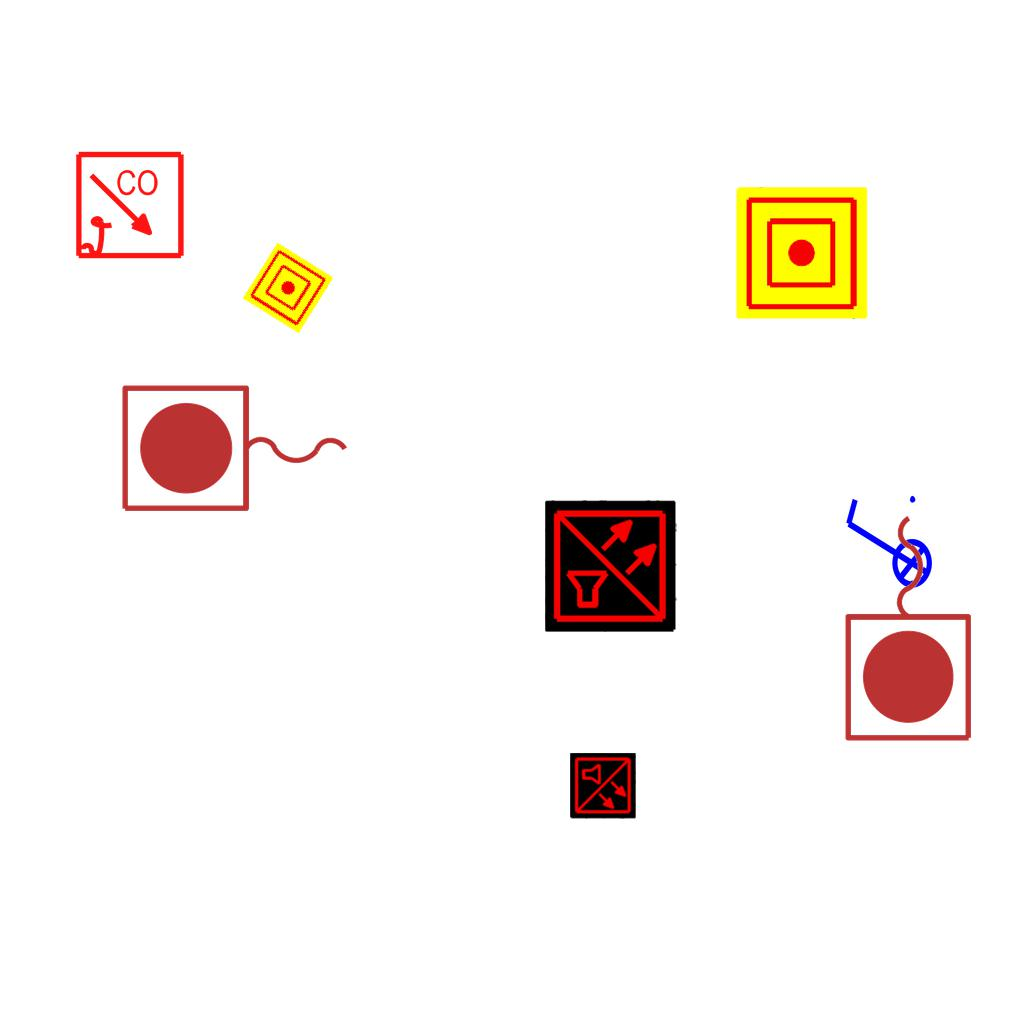Ausschalter_beleuchtet: (838, 490, 934, 602)
NAM-Nichtautomatischer_Melder: (736, 187, 868, 319), (242, 242, 334, 334)
OKW_Multisensormelder_(Kombination_optischer_Rauch-Kahlenmonoxid_Waerme-Melder): (545, 500, 677, 632), (570, 753, 636, 819)
ROA_Rauchmelder_optisch_mit_Signalgeber_(Sockelsirene): (74, 150, 187, 263)
Zugtaster: (114, 378, 358, 522), (838, 505, 982, 749)
